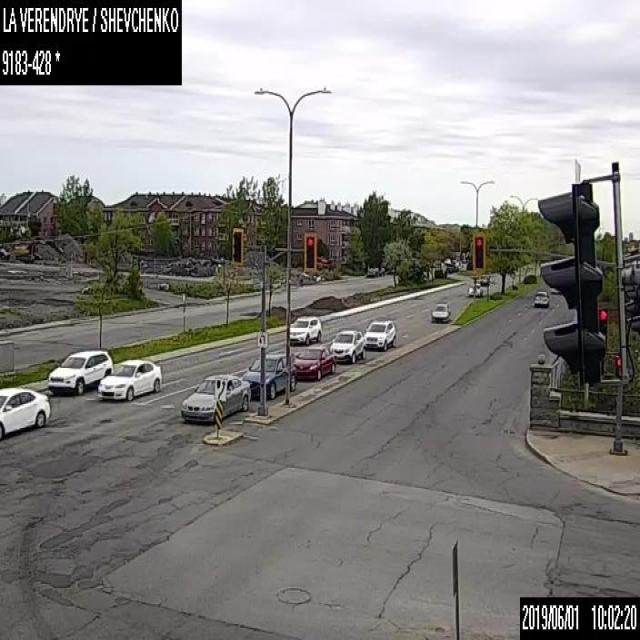vehicle: (180, 372, 250, 422), (47, 348, 113, 394), (97, 357, 161, 400), (0, 385, 50, 440), (242, 352, 295, 400), (293, 344, 335, 380), (328, 329, 364, 363), (289, 314, 322, 346), (363, 318, 395, 350), (430, 300, 450, 320), (533, 289, 549, 307), (467, 281, 481, 296), (366, 266, 378, 277), (378, 266, 384, 276)
